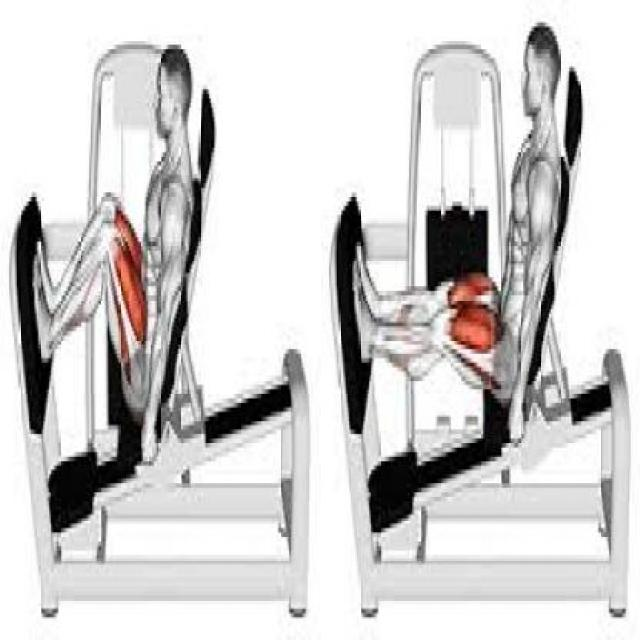leg press: (6, 4, 315, 640), (320, 9, 632, 629)
